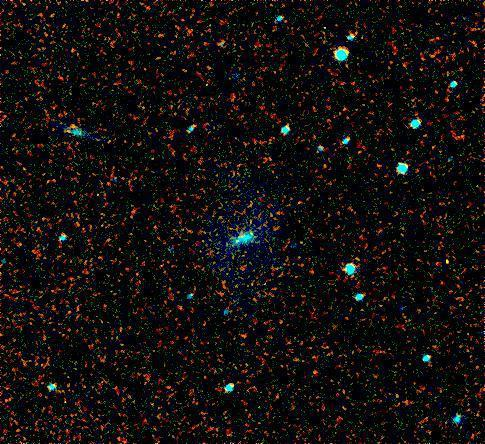star: (58, 112, 88, 142)
